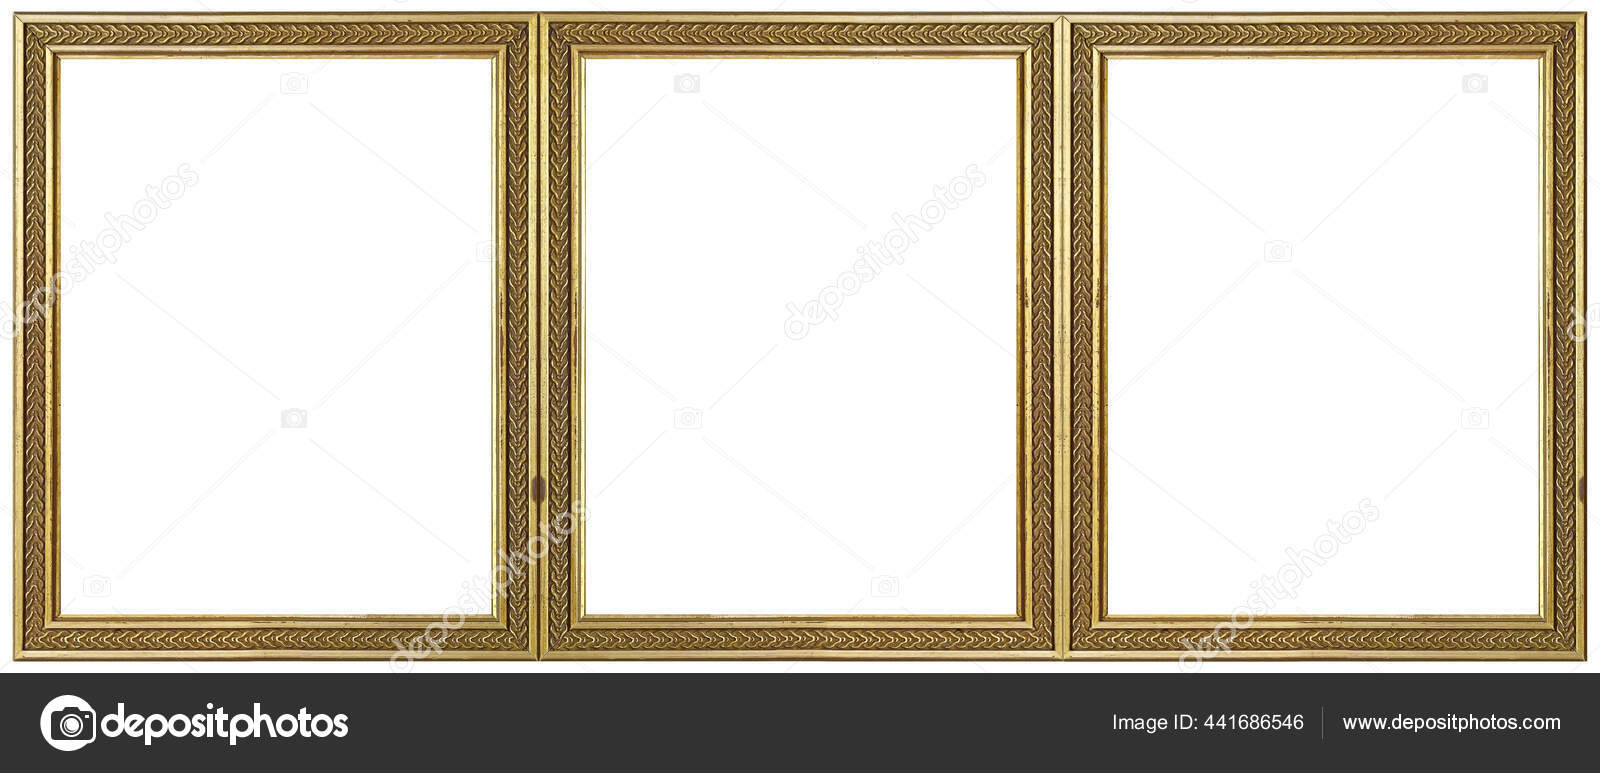lukisan: (13, 14, 1599, 700)
